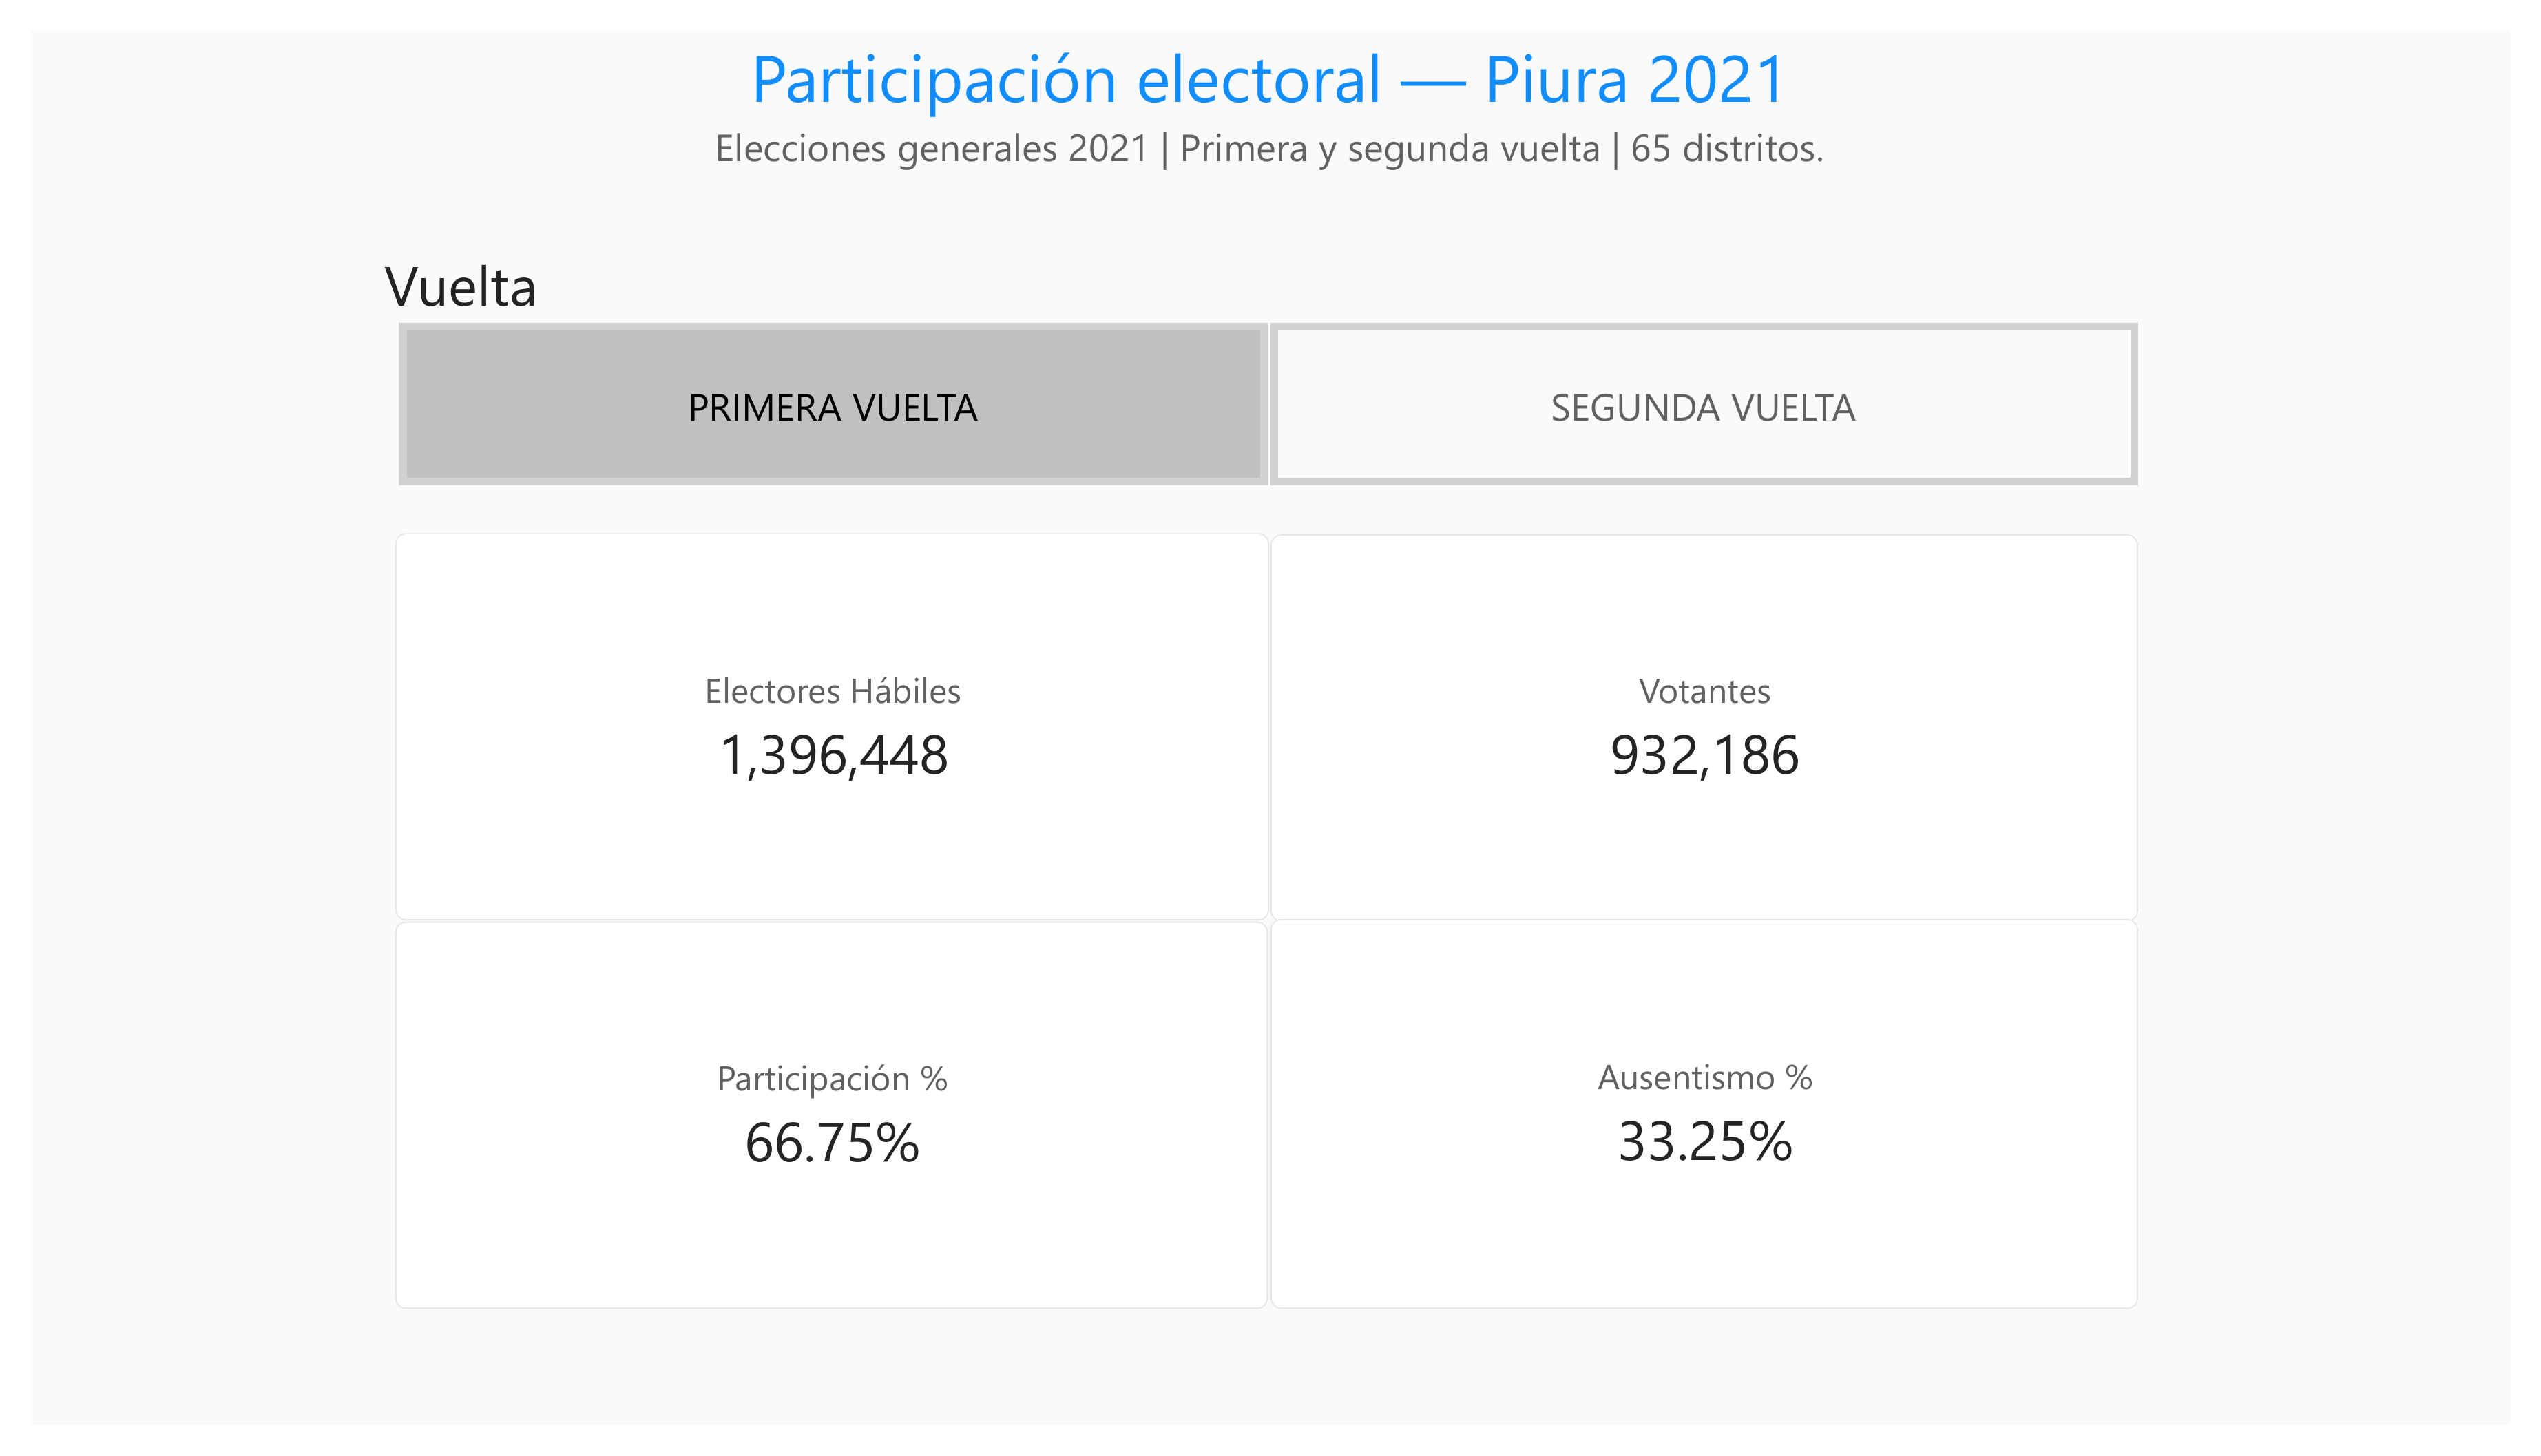

The page's visual inventory and layout, read from the dashboard file:
{"tool":"powerbi","page":{"name":"01 | Resumen electoral","canvas":[1920,1080],"ordinal":0},"visuals":[{"type":"textbox","title":"Participación electoral — Piura 2021","box":[409.6,0,1099.1,117.3],"z":0},{"type":"slicer","fields":{"Values":["FACT_PARTICIPACION.VUELTA"]},"box":[265.5,166.7,1385.3,185.2],"z":1000},{"type":"cardVisual","fields":{"Data":["_MEDIDAS.Electores Hábiles"]},"box":[282,389,677.2,300.5],"z":2000},{"type":"cardVisual","fields":{"Data":["_MEDIDAS.Votantes"]},"box":[960,390,672,300],"z":3000},{"type":"cardVisual","fields":{"Data":["_MEDIDAS.Participación %"]},"box":[282,690,676,300],"z":4000},{"type":"cardVisual","fields":{"Data":["_MEDIDAS.Ausentismo %"]},"box":[960,688,672,302],"z":5000}]}

Visuals, with their boxes in screenshot pixels (x1, y1, x2, y2), scaled from the page's 1920x1080 canvas onto the 2541x1456 screenshot:
"Participación electoral — Piura 2021" textbox: [542, 0, 1997, 158]
slicer - FACT_PARTICIPACION.VUELTA: [351, 224, 2185, 474]
cardVisual - _MEDIDAS.Electores Hábiles: [373, 525, 1269, 929]
cardVisual - _MEDIDAS.Votantes: [1270, 526, 2160, 930]
cardVisual - _MEDIDAS.Participación %: [373, 930, 1268, 1335]
cardVisual - _MEDIDAS.Ausentismo %: [1270, 927, 2160, 1335]
